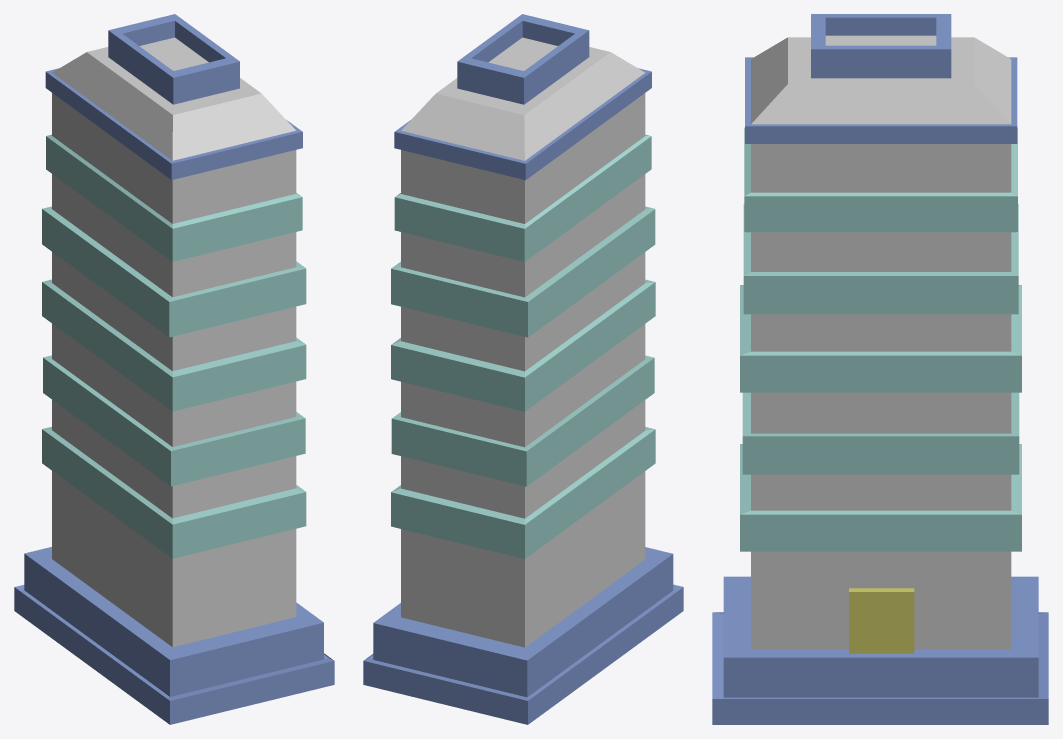
The model's file is Highrise2_1.fbx.
3 views of the same model, side by side, from view 1: azimuth 30°, elevation 25°; view 2: azimuth 150°, elevation 25°; view 3: azimuth 270°, elevation 25° (orthographic). The views are drawn at different scales.
Parts seen in each view (by area): view 1: Cube; view 2: Cube; view 3: Cube.
Boxes of the visible parts, left/top/right/bottom form: Cube: left=14, top=14, right=334, bottom=724; Cube: left=363, top=14, right=683, bottom=724; Cube: left=712, top=14, right=1048, bottom=724.
Size of the model in its own units: 150 by 525 by 246.
